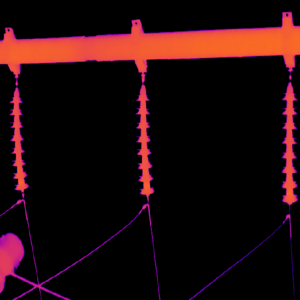insulator: (135, 82, 155, 196), (280, 79, 297, 206), (8, 85, 27, 193)
